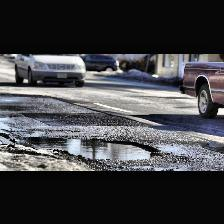pothole: (20, 136, 160, 158), (194, 140, 209, 146)
